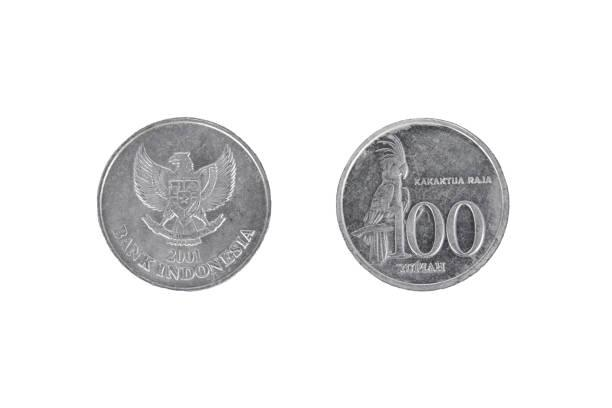coin_100_e1999: (333, 113, 511, 295)
